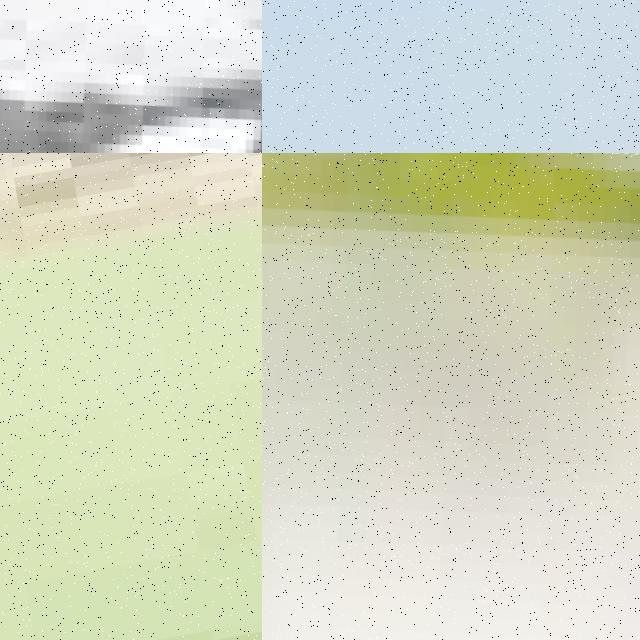0: (0, 0, 262, 153)
drone: (262, 153, 640, 640)
